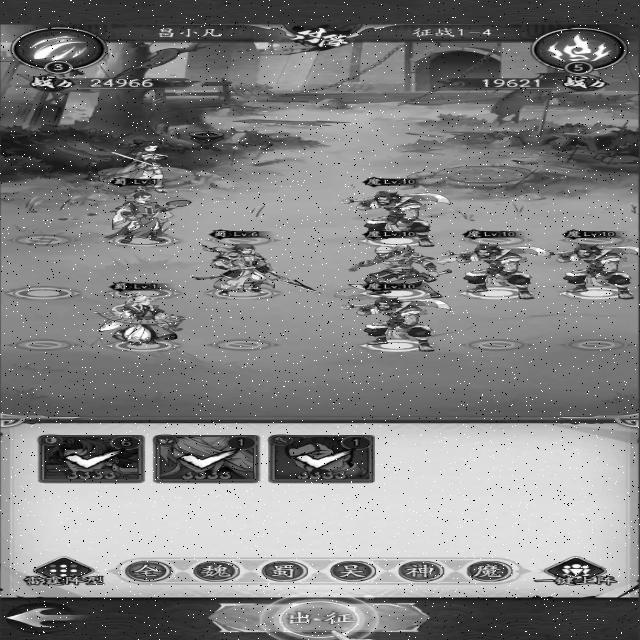hint-guide: (215, 589, 433, 640)
navigation-myHeroes: (30, 430, 150, 484), (264, 431, 380, 484), (150, 432, 264, 484)
operation-back: (5, 602, 89, 635)
operation-camp: (456, 557, 514, 583), (258, 556, 313, 582), (326, 557, 381, 583), (182, 560, 245, 582), (392, 558, 450, 581), (121, 560, 171, 582)
operation-confirm: (220, 604, 427, 632)
operation-deployment: (21, 556, 103, 588)
operation-oneKeyDeployment: (531, 554, 619, 588)
